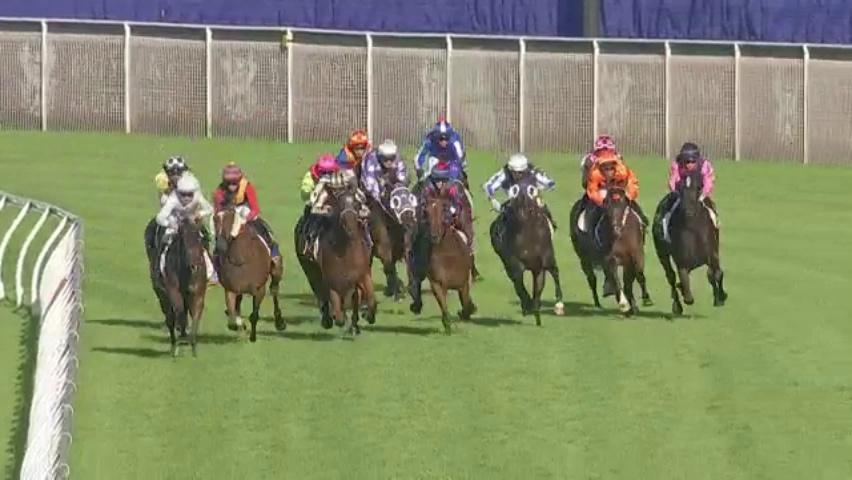racing-horse: (645, 135, 741, 323), (479, 145, 568, 331), (295, 169, 383, 343), (407, 159, 487, 349), (209, 156, 289, 346), (572, 147, 658, 323), (140, 173, 217, 365), (411, 111, 492, 286), (143, 143, 217, 333), (563, 131, 637, 313), (351, 139, 427, 307), (333, 119, 387, 278), (289, 151, 342, 217)
